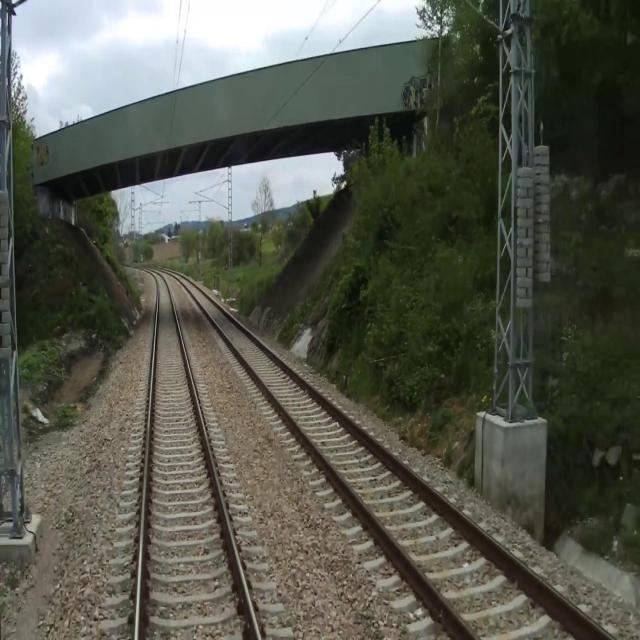rail-track: (172, 272, 608, 639), (139, 272, 257, 639)
